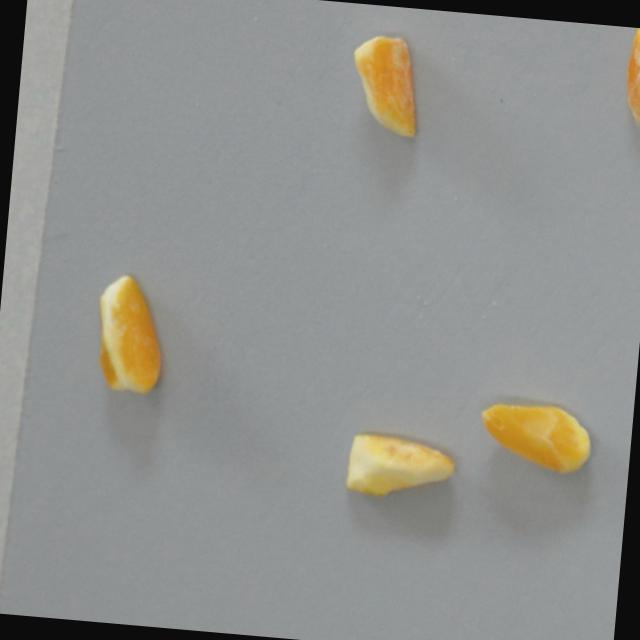estandar: (89, 273, 168, 396)
pelicula: (475, 399, 594, 476), (343, 429, 459, 505), (344, 32, 425, 138), (620, 26, 640, 131)
